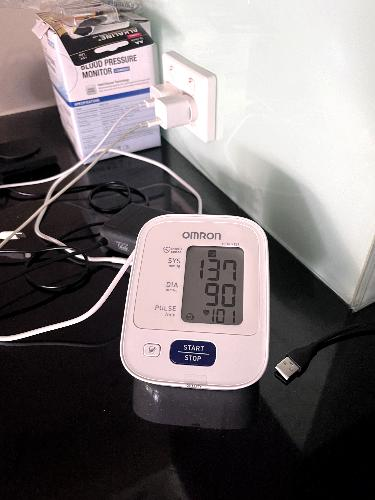bpm: (180, 242, 249, 326)
